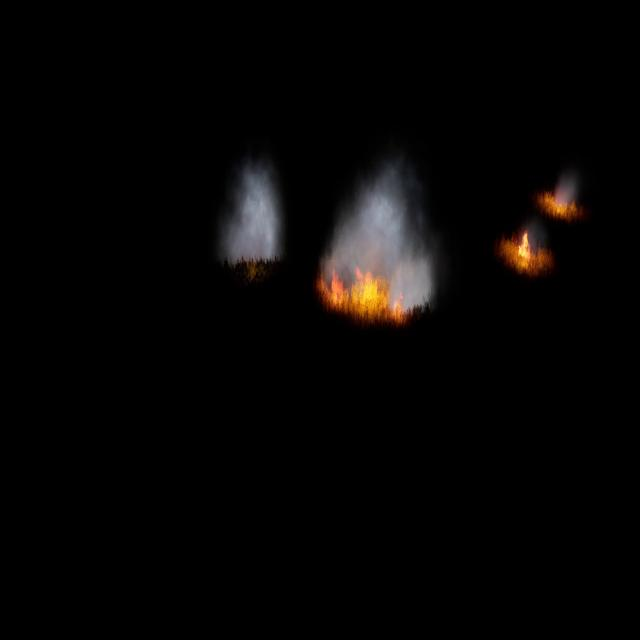fire: (322, 267, 402, 319), (518, 223, 528, 263)
smoke: (322, 154, 436, 312), (221, 154, 284, 268), (556, 170, 581, 197)
